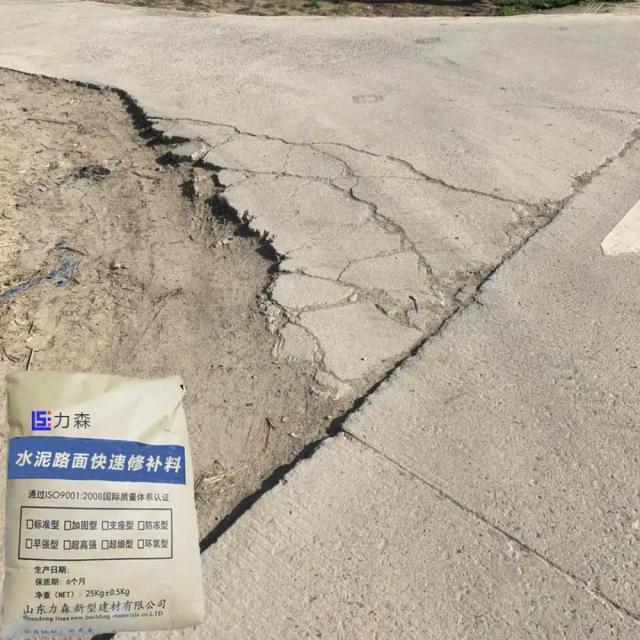Buraco: (0, 67, 344, 551)
